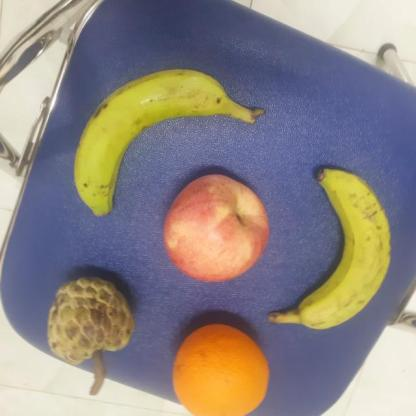annona: (47, 266, 139, 366)
banana: (72, 65, 262, 219), (268, 159, 400, 331)
orange: (160, 169, 271, 282), (172, 316, 274, 416)
